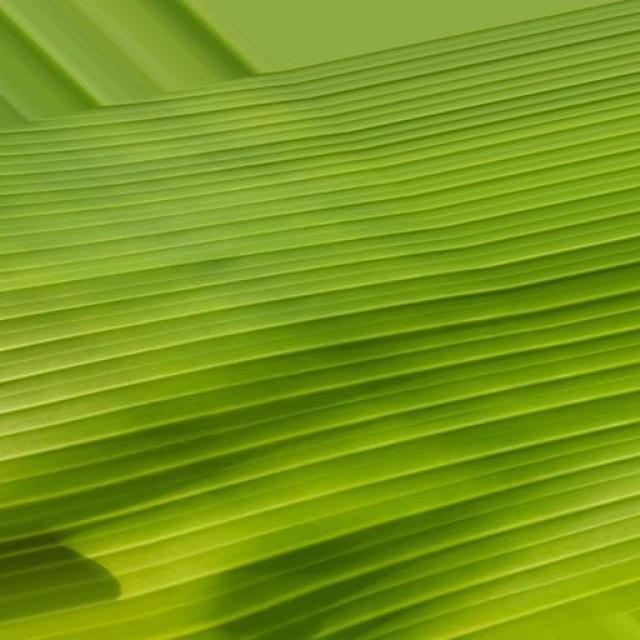Black_leaf_spot: (0, 0, 586, 626)
